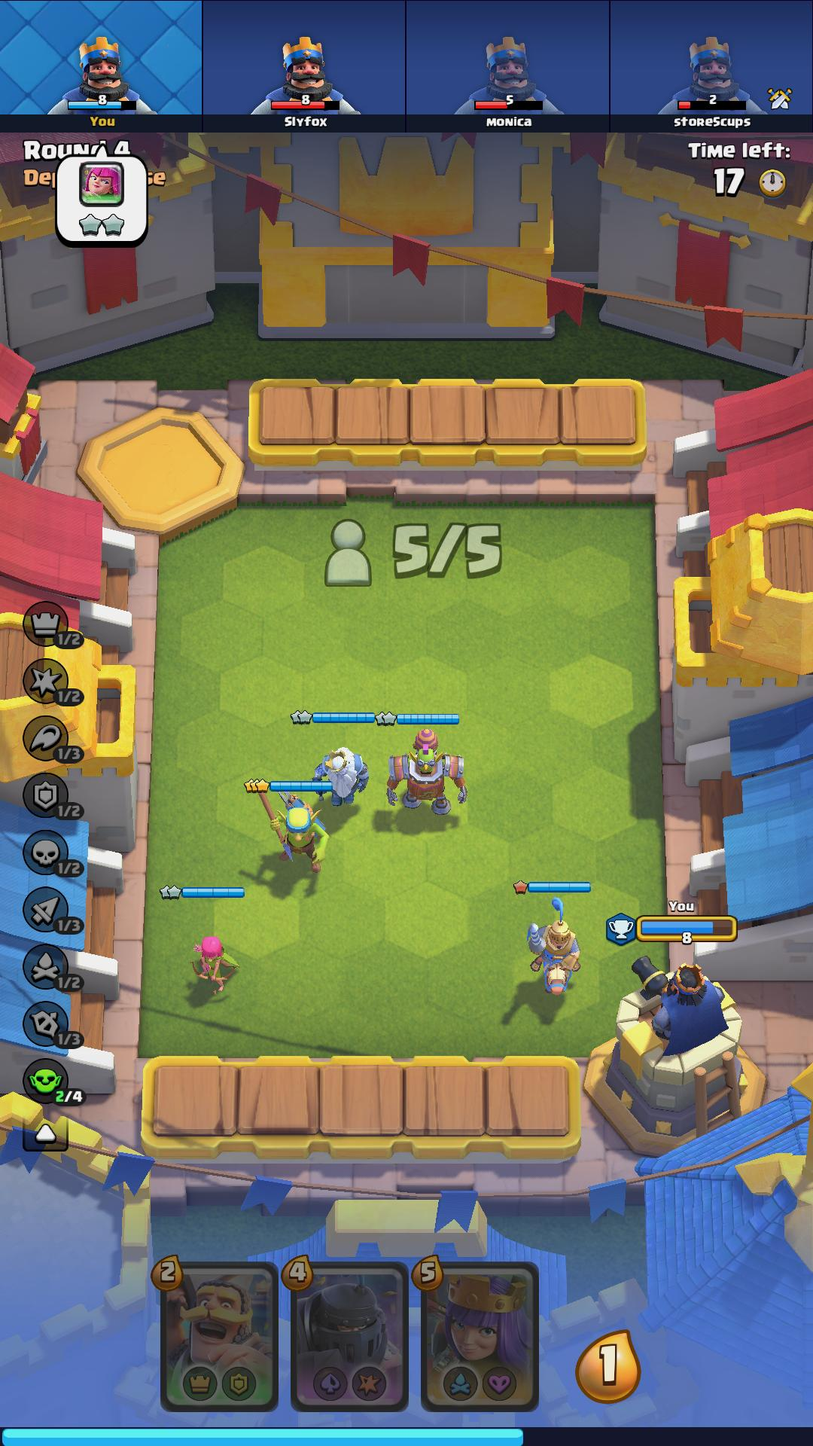archer: (179, 925, 242, 999)
ghost: (306, 738, 364, 808)
hand-knight: (166, 1265, 280, 1408)
hand-mega: (296, 1260, 407, 1413)
hand-queen: (420, 1264, 538, 1410)
machine: (378, 727, 478, 823)
prince: (514, 892, 597, 1005)
spear: (246, 795, 334, 874)
